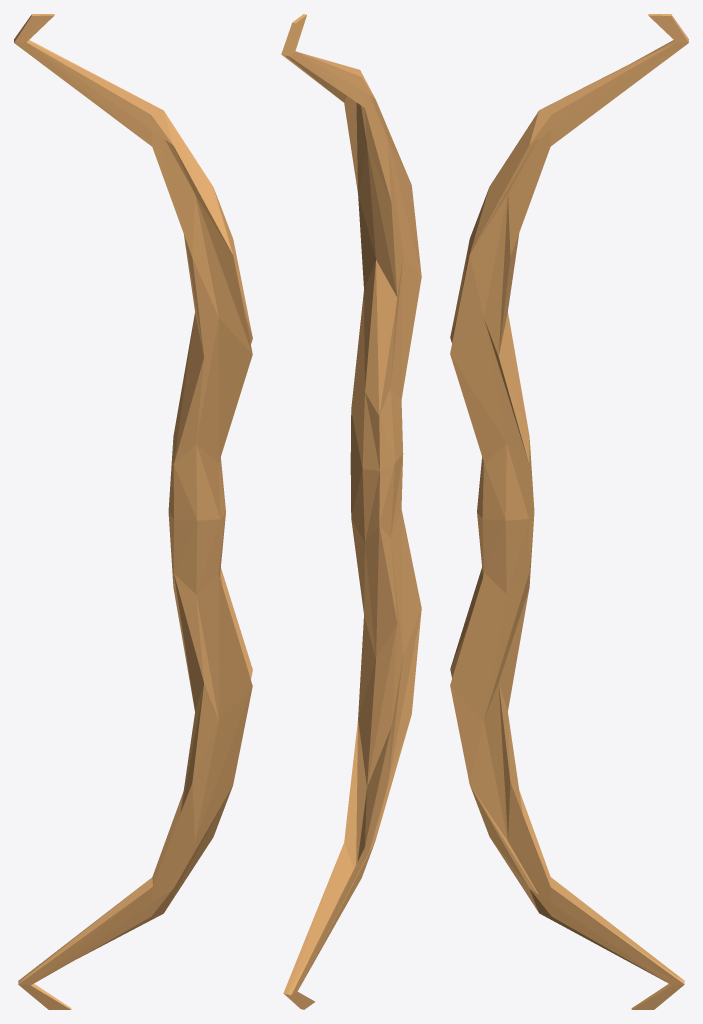
File: Shortbow.glb
3 renders of one model, left to right at view 1: azimuth 90°, elevation 25°; view 2: azimuth 150°, elevation 25°; view 3: azimuth 270°, elevation 25°, orthographic.
Visible parts, largest first — view 1: EQ_Shortbow; view 2: EQ_Shortbow; view 3: EQ_Shortbow.
Boxes of the visible parts, x1,y1,x2,y2 form: EQ_Shortbow: (14,14,252,1009); EQ_Shortbow: (281,14,421,1009); EQ_Shortbow: (450,14,688,1009).
Bounding box in the file's own units: 0.0393 × 1.03 × 0.2245.
